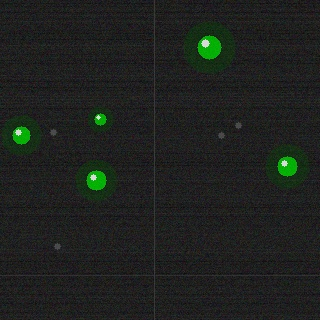green_normal: (195, 33, 223, 61), (275, 154, 299, 178), (84, 168, 108, 192), (10, 124, 32, 146), (92, 111, 108, 127)
